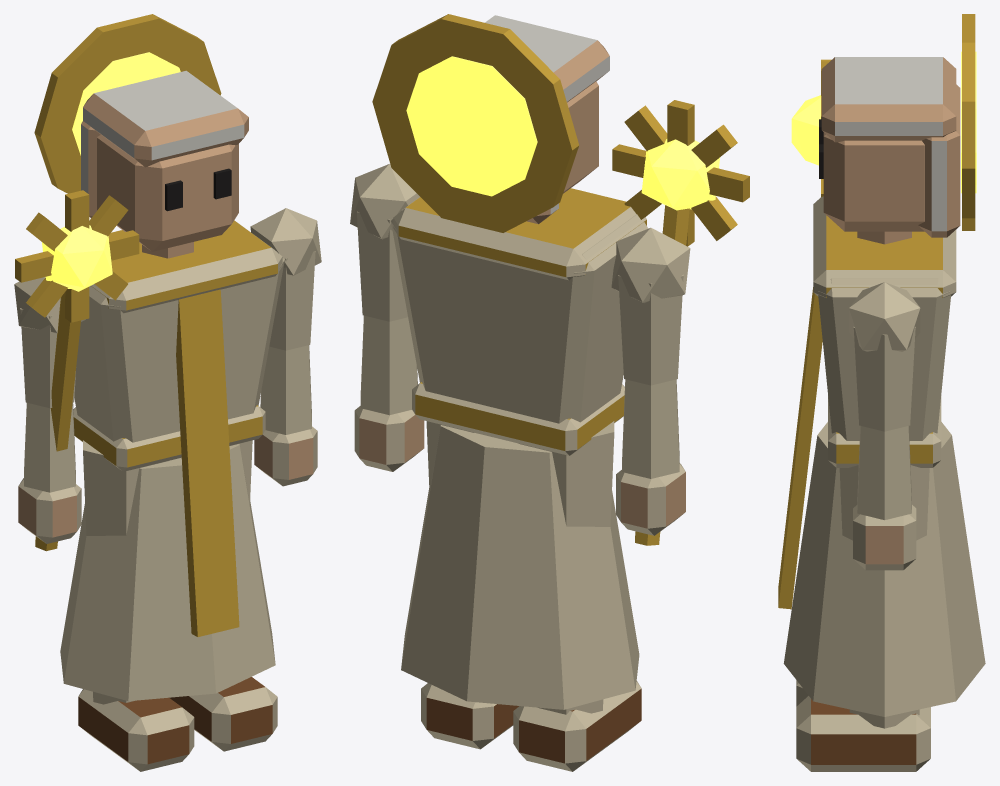
The model's file is sun_cleric.glb.
3 renders of one model, left to right at view 1: azimuth 30°, elevation 25°; view 2: azimuth 150°, elevation 25°; view 3: azimuth 270°, elevation 25°, orthographic. The views are drawn at different scales.
Parts seen in each view (by area): view 1: torso, head, arm_r, arm_l, leg_r, leg_l; view 2: torso, head, arm_r, arm_l, leg_r, leg_l; view 3: torso, head, arm_l, leg_l, arm_r.
Boxes of the visible parts, bbox=[...] form: torso: bbox=[60, 220, 284, 701]; head: bbox=[34, 14, 248, 251]; arm_r: bbox=[14, 190, 139, 551]; arm_l: bbox=[250, 208, 321, 486]; leg_r: bbox=[78, 440, 194, 771]; leg_l: bbox=[169, 440, 277, 751]; torso: bbox=[391, 188, 648, 709]; head: bbox=[372, 14, 609, 232]; arm_r: bbox=[611, 100, 749, 545]; arm_l: bbox=[350, 164, 424, 471]; leg_r: bbox=[513, 421, 641, 771]; leg_l: bbox=[421, 421, 518, 749]; torso: bbox=[778, 196, 985, 716]; head: bbox=[819, 14, 976, 237]; arm_l: bbox=[849, 282, 920, 570]; leg_l: bbox=[796, 465, 930, 771]; arm_r: bbox=[791, 59, 831, 197].
Size of the model in its own units: 0.8925 by 1.77 by 0.4681.
